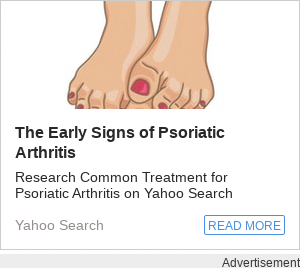fake_button: (195, 206, 293, 244)
